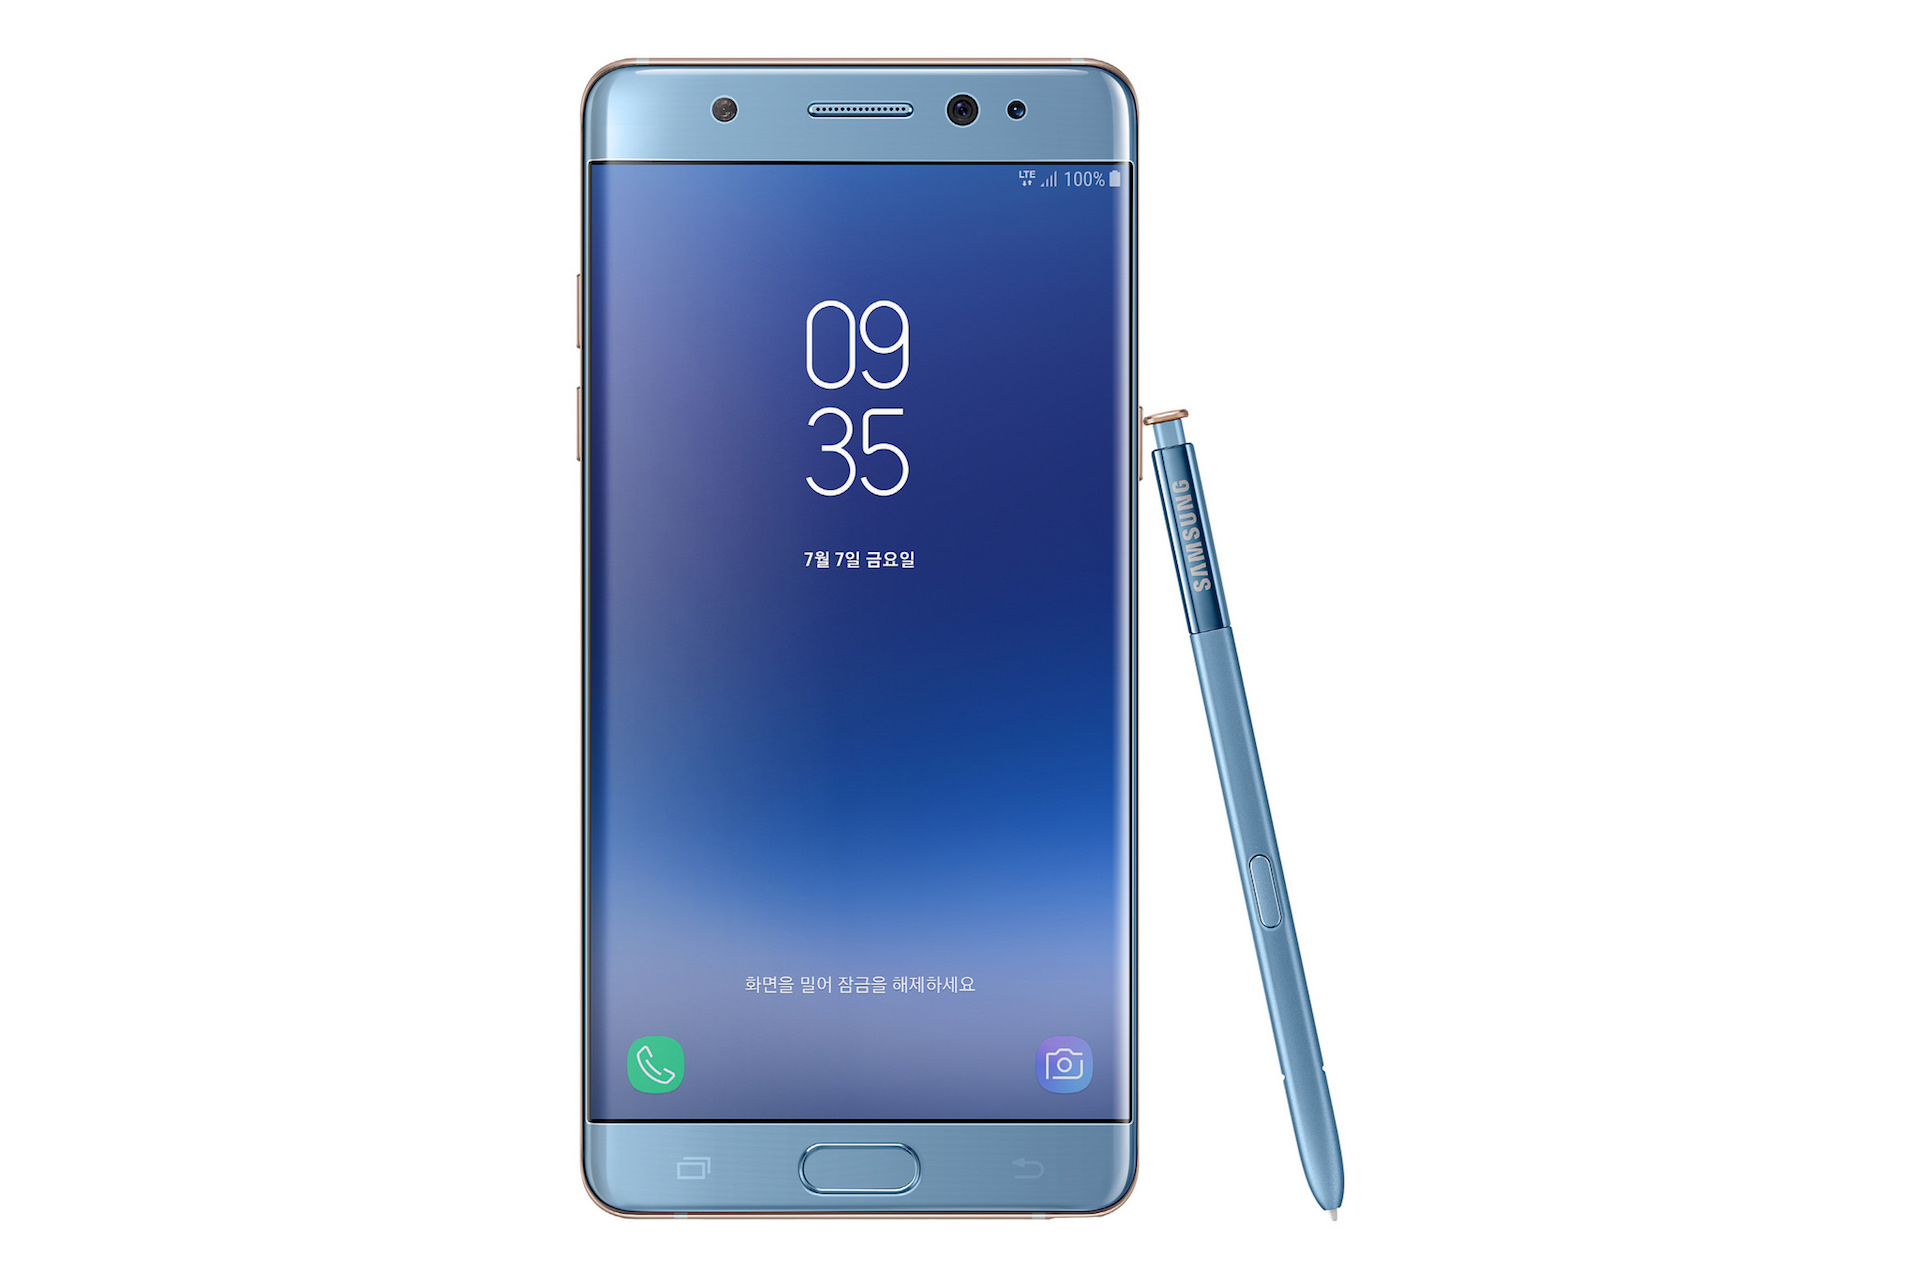smartphone: (572, 54, 1143, 1223)
